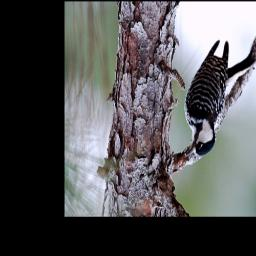Woodpecker: (181, 39, 256, 161)
